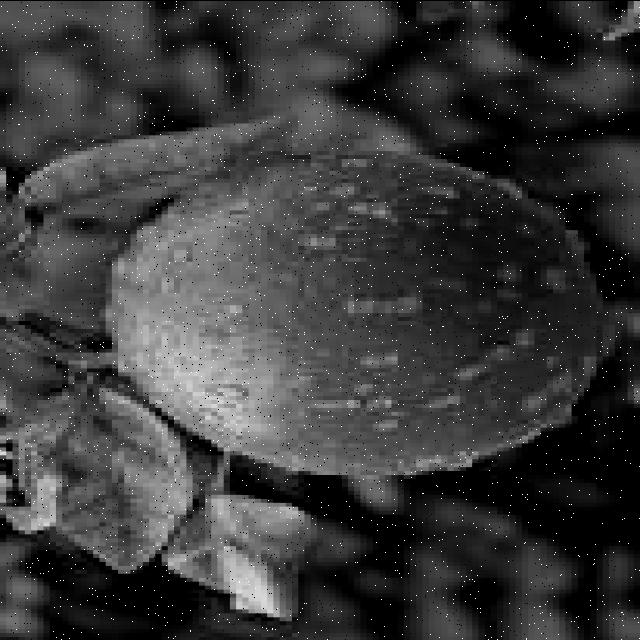Unripe: (105, 152, 604, 477)
